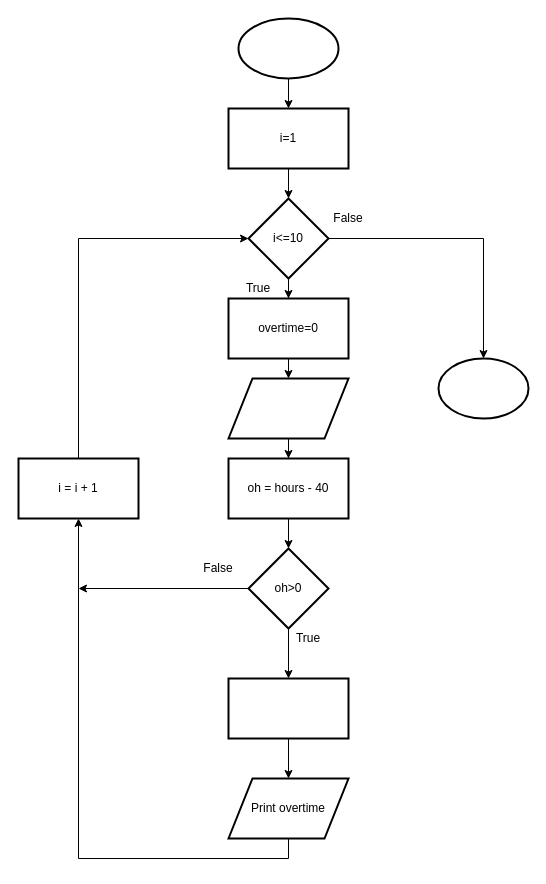
Image size: 546x884. Some labels were removed from this diagram. Each missing label, with the centre of its shape:
"overtime = oh * 12" belongs at point 288,708.
"Read hours" belongs at point 288,408.
"Start" belongs at point 288,48.
"Stop" belongs at point 483,388.
